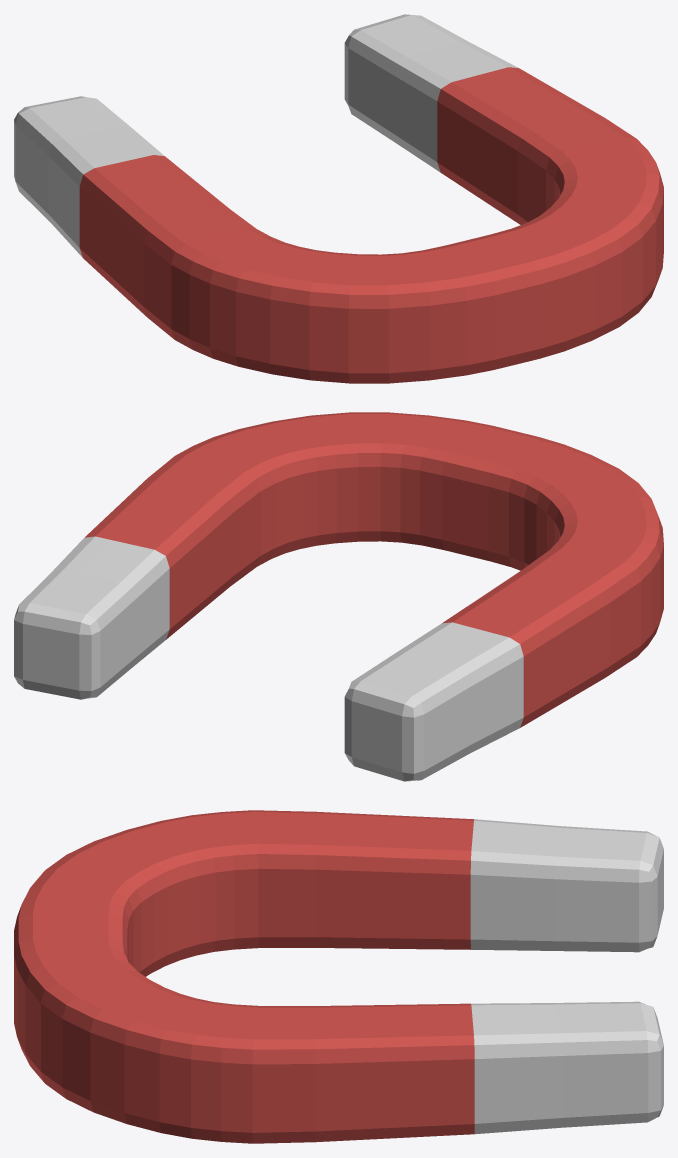
The model's file is magnet.fbx.
3 views of the same model, one above another, from view 1: azimuth 30°, elevation 25°; view 2: azimuth 150°, elevation 25°; view 3: azimuth 270°, elevation 25° (orthographic). The views are drawn at different scales.
Parts seen in each view (by area): view 1: magnet; view 2: magnet; view 3: magnet.
Boxes of the visible parts, <box> form: magnet: <box>14,14,663,383</box>; magnet: <box>14,412,663,781</box>; magnet: <box>14,810,663,1143</box>.
Size of the model in its own units: 5.3 by 1.04 by 5.98.
